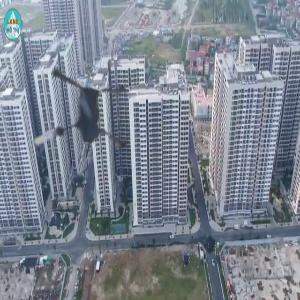drone: (1, 42, 150, 191)
